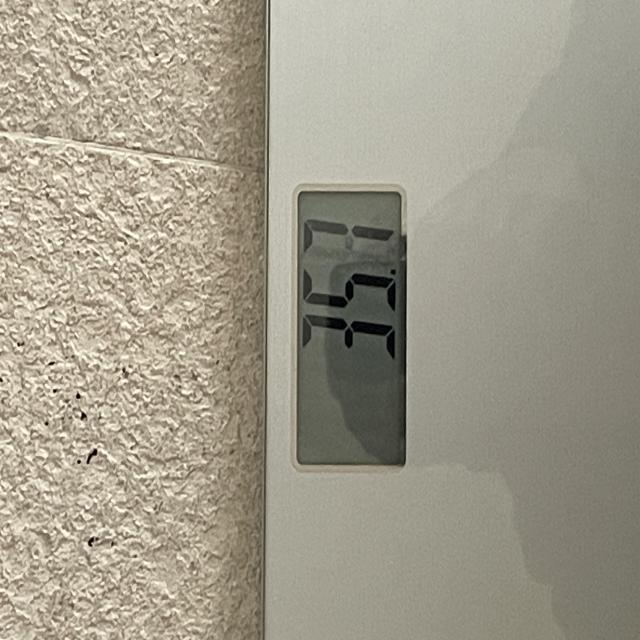ws: (294, 184, 409, 474)
